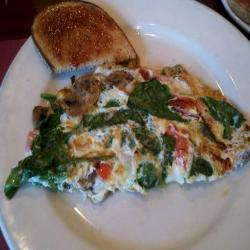bread: (26, 1, 142, 71)
omelette: (41, 77, 242, 192)
